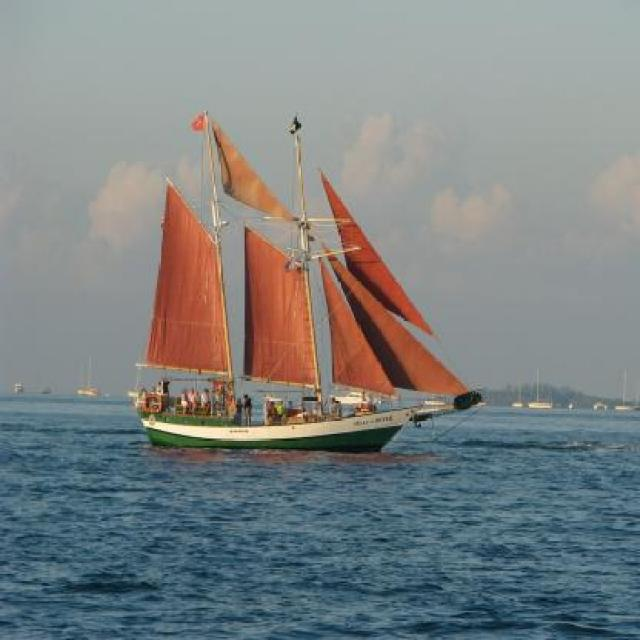ship: (132, 108, 485, 448)
